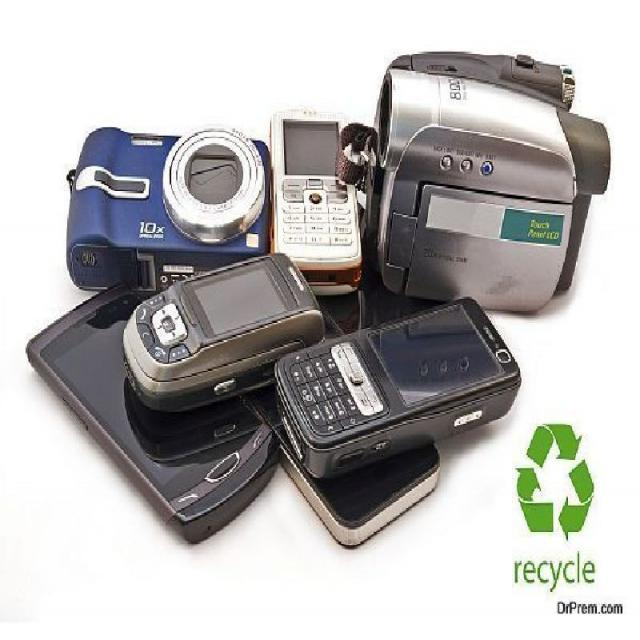heap: (68, 48, 511, 480)
metel: (385, 67, 596, 304), (123, 262, 330, 411)
